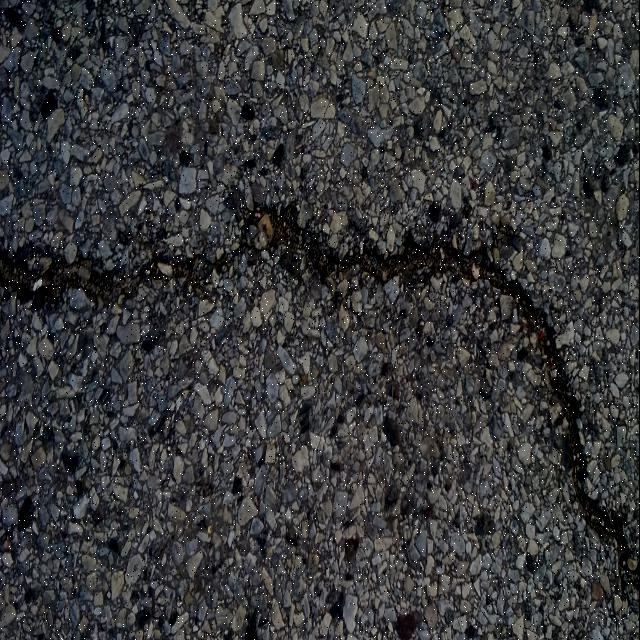Crack: (0, 202, 640, 595)
